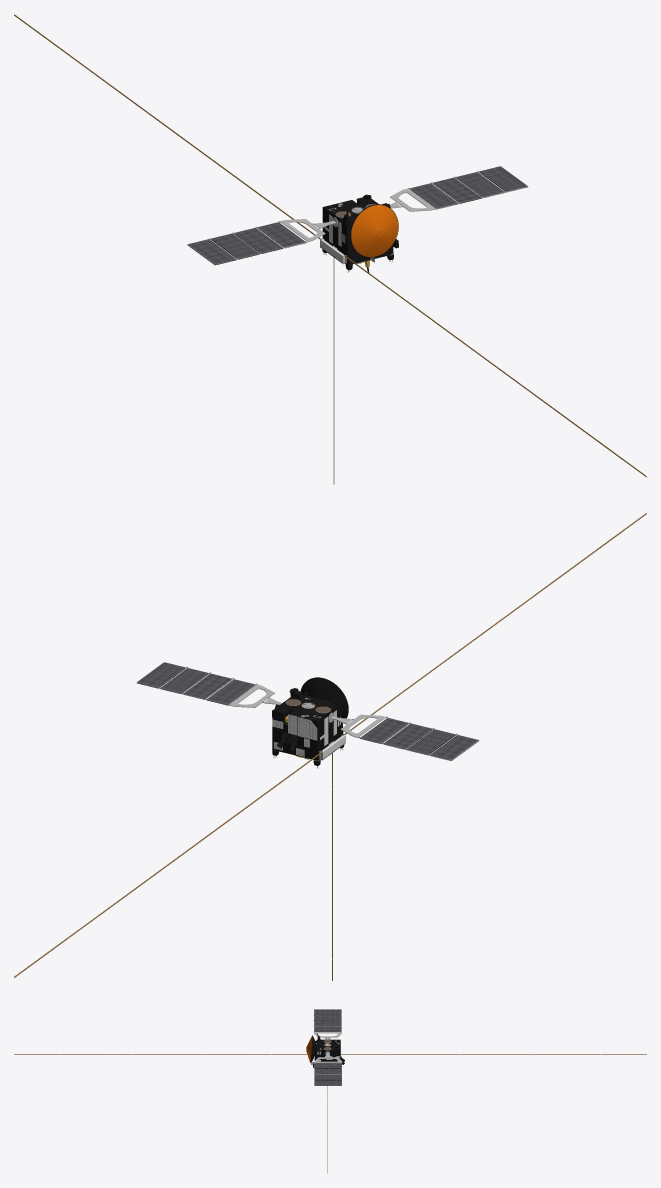
The model's file is mex.glb.
The picture shows the model from 3 angles, top to bottom: view 1: azimuth 30°, elevation 25°; view 2: azimuth 150°, elevation 25°; view 3: azimuth 270°, elevation 25°; orthographic projection. The views are drawn at different scales.
Parts seen in each view (by area): view 1: solar, bus, hga, marsis; view 2: solar, bus, marsis, hga; view 3: solar, marsis, bus.
Part boxes in pixels (bbox=[...]): solar: bbox=[187, 166, 528, 265]; bus: bbox=[314, 194, 401, 293]; hga: bbox=[344, 204, 398, 271]; marsis: bbox=[14, 14, 646, 484]; solar: bbox=[136, 662, 479, 760]; bus: bbox=[264, 688, 351, 789]; marsis: bbox=[14, 513, 646, 980]; hga: bbox=[300, 677, 365, 734]; solar: bbox=[313, 1009, 342, 1085]; marsis: bbox=[14, 1054, 646, 1173]; bus: bbox=[314, 1033, 344, 1064].
Bounding box in the file's own units: 1226 × 1063 × 4273.
1 material, 1 textured.
